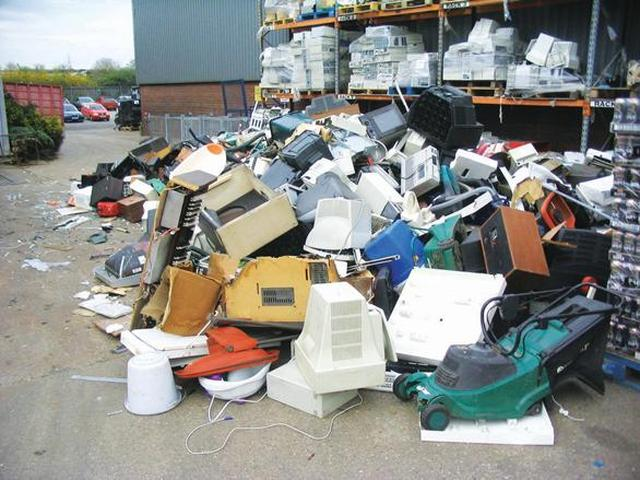garbage: (150, 142, 566, 349)
